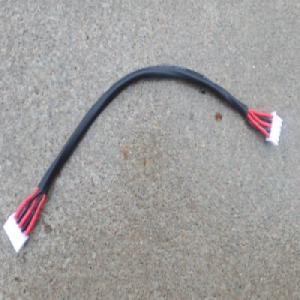Wire: (2, 63, 281, 254)
